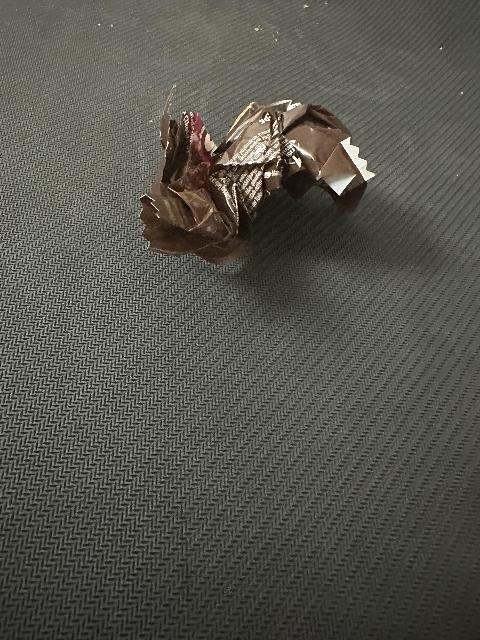Plastik: (135, 87, 383, 259)
